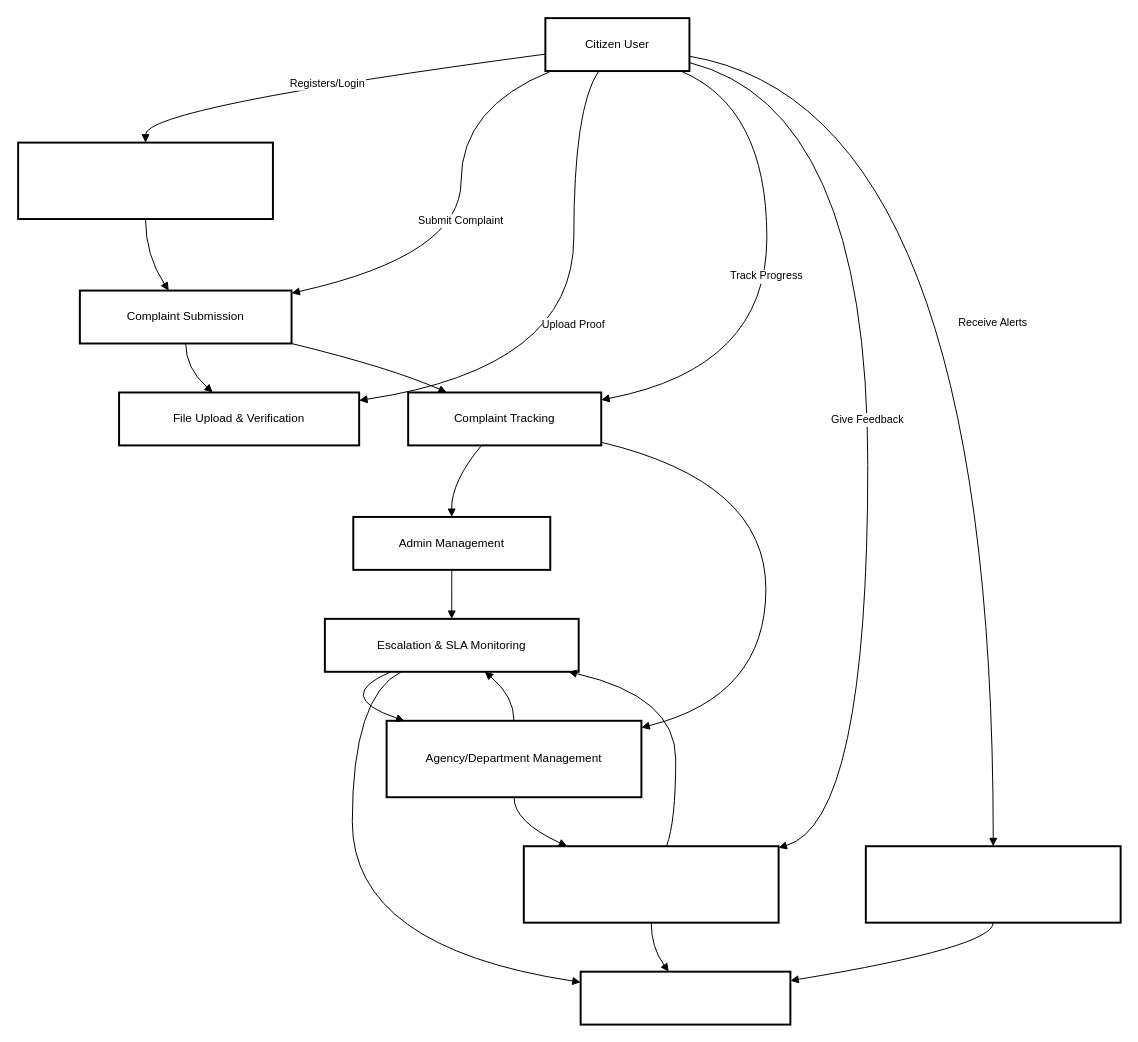
This 1138x1042 diagram has some shape labels left out. Here are the shapes that lost their labels. From the top down, the centre of each, then its label:
point (145, 180): Authentication & User Management
point (650, 884): Feedback & Citizen Satisfaction
point (992, 884): Notifications & Communication
point (685, 997): Analytics & Reporting
